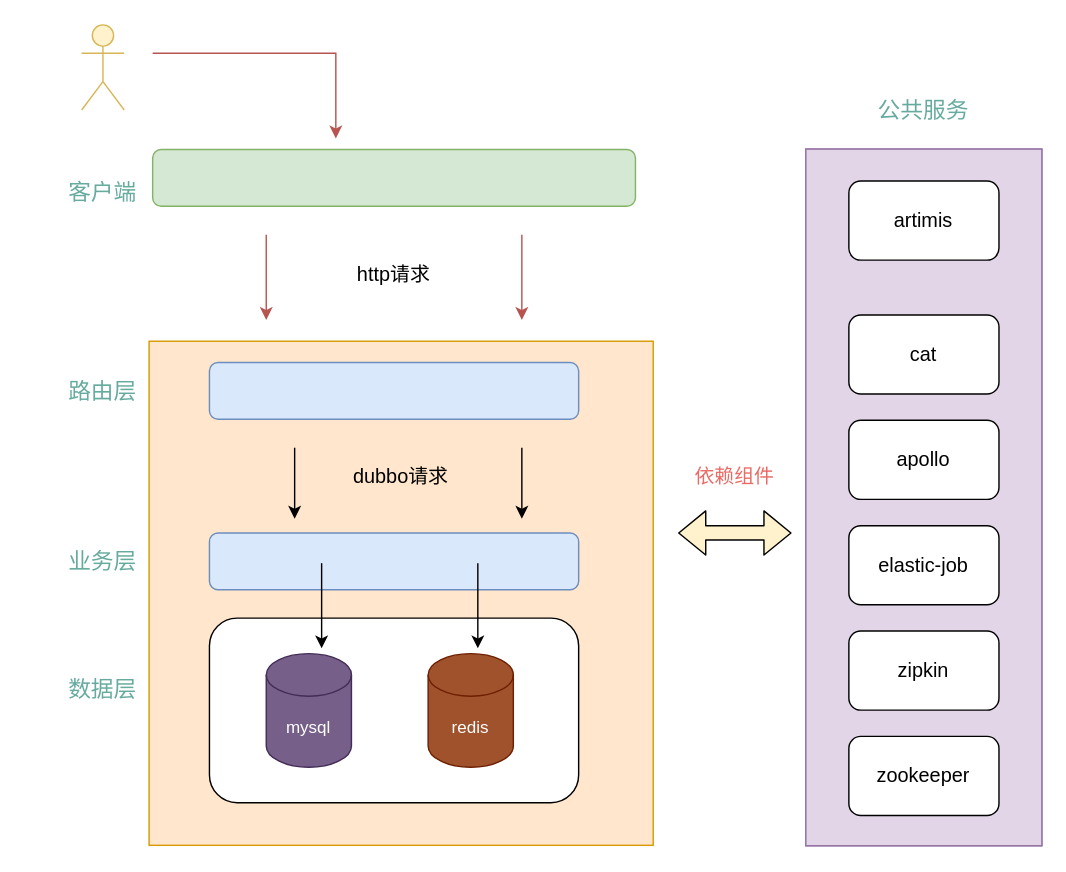
Some shapes in this 1066 by 872 pixel diagram are drawn without their labels. The box of each missing label's shape, as (x1, y1, x2, y2) in pixels:
app、运营后台、新云后台: (151, 148, 635, 206)
article - service: (208, 532, 579, 590)
sbc - api: (208, 361, 579, 419)
用户: (80, 23, 124, 110)
